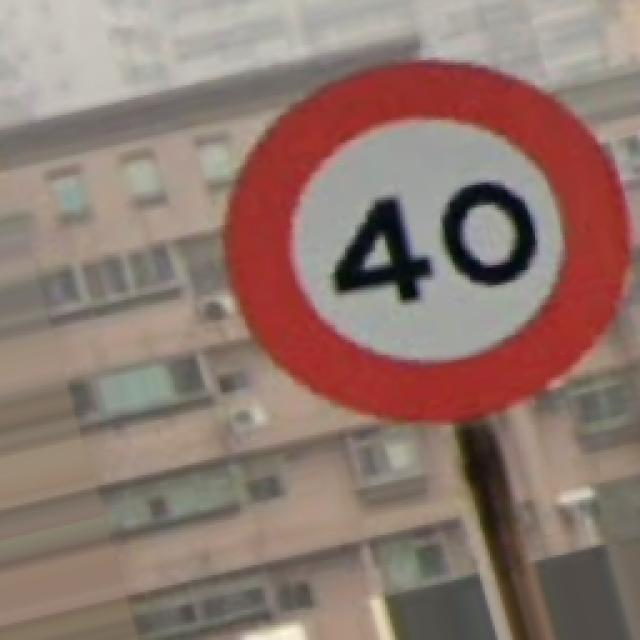Speed Limit -40-: (225, 62, 628, 420)
